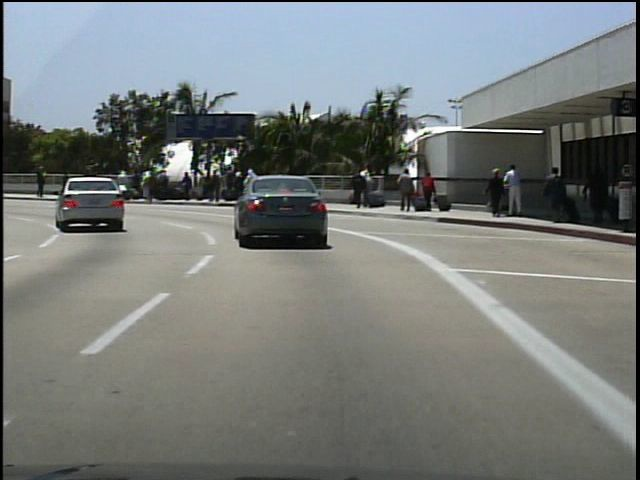person: (583, 161, 610, 224), (543, 166, 570, 226), (505, 162, 527, 219), (485, 167, 506, 222), (396, 167, 417, 215), (350, 169, 369, 212), (421, 170, 440, 213), (33, 164, 51, 199), (81, 167, 102, 196), (69, 168, 70, 198)
